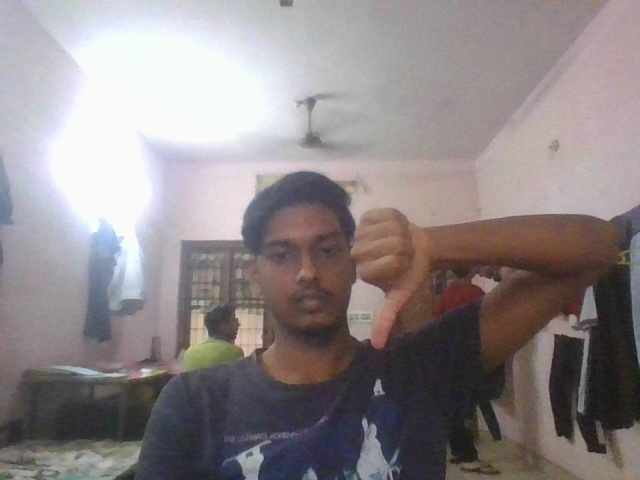thumbsdown: (350, 195, 442, 354)
